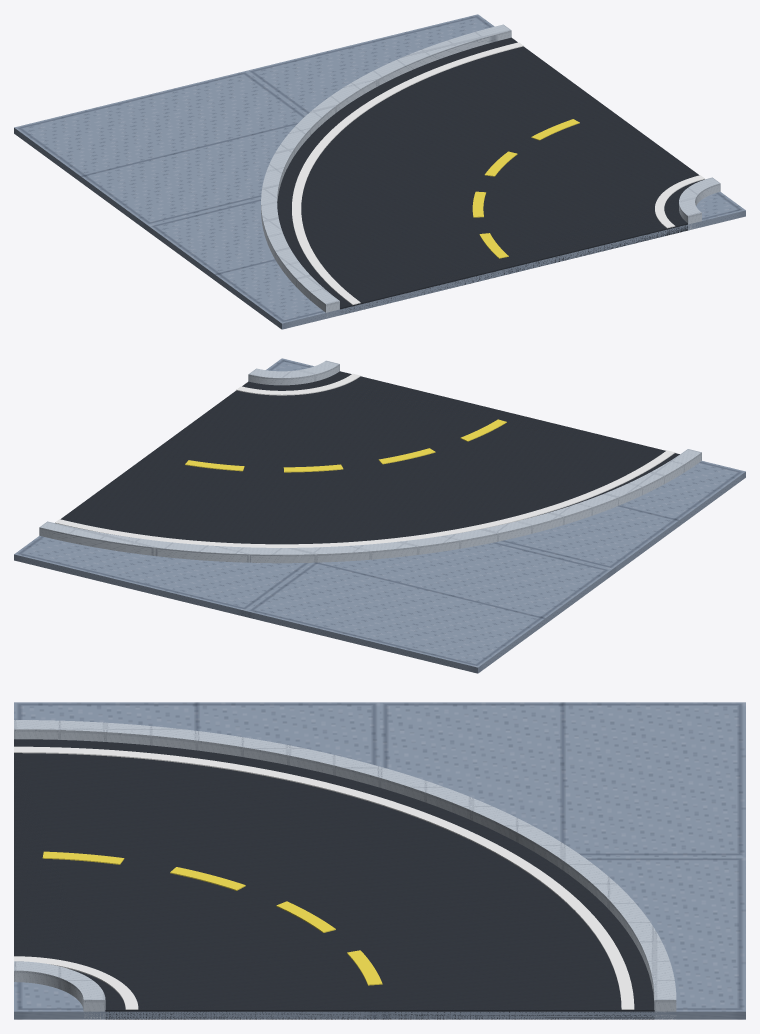
The model's file is road_turn_90.glb.
The picture shows the model from 3 angles, top to bottom: view 1: azimuth 30°, elevation 25°; view 2: azimuth 150°, elevation 25°; view 3: azimuth 270°, elevation 25°; orthographic projection. The views are drawn at different scales.
Parts seen in each view (by area): view 1: road_turn_90; view 2: road_turn_90; view 3: road_turn_90.
Part boxes in pixels (<box>): road_turn_90: <box>14,14,745,329</box>; road_turn_90: <box>14,358,745,673</box>; road_turn_90: <box>14,702,745,1019</box>.
Size of the model in its own units: 8 by 0.24 by 8.
5 materials, 3 textured.
